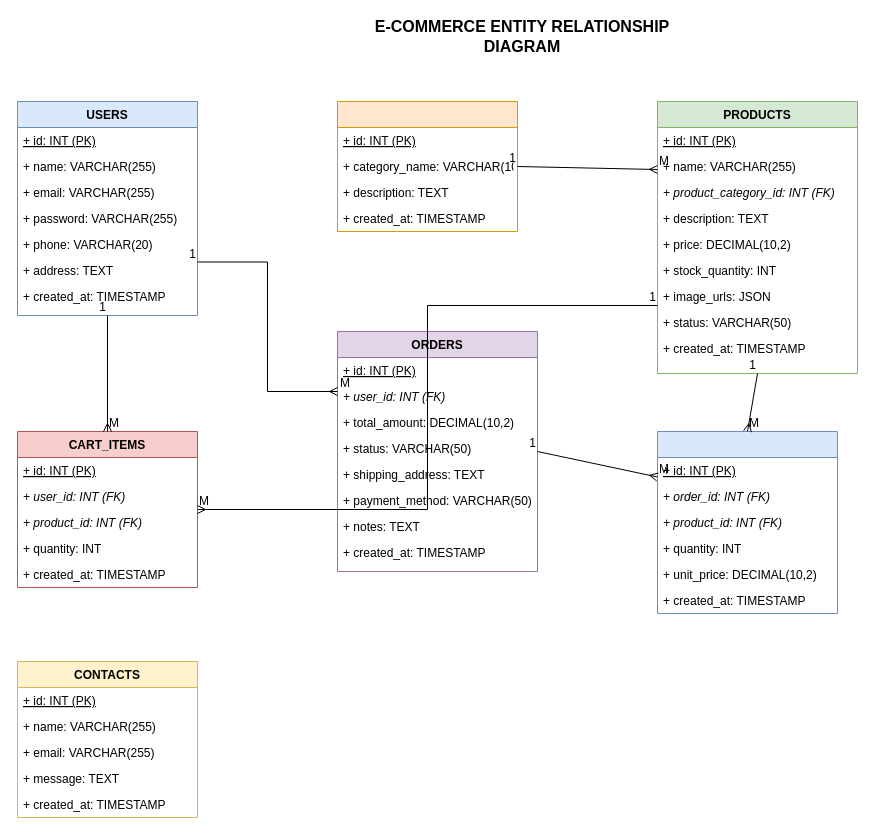
This 875x837 diagram has some shape labels left out. Each missing label, with the box of its shape:
ORDER_ITEMS: (656, 430, 838, 614)
PRODUCT_CATEGORIES: (336, 100, 518, 232)
